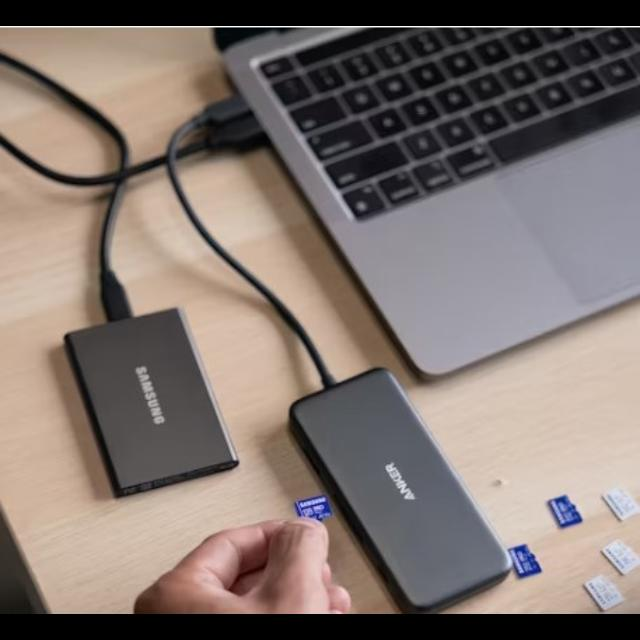HDD: (287, 368, 515, 614), (56, 307, 239, 501)
